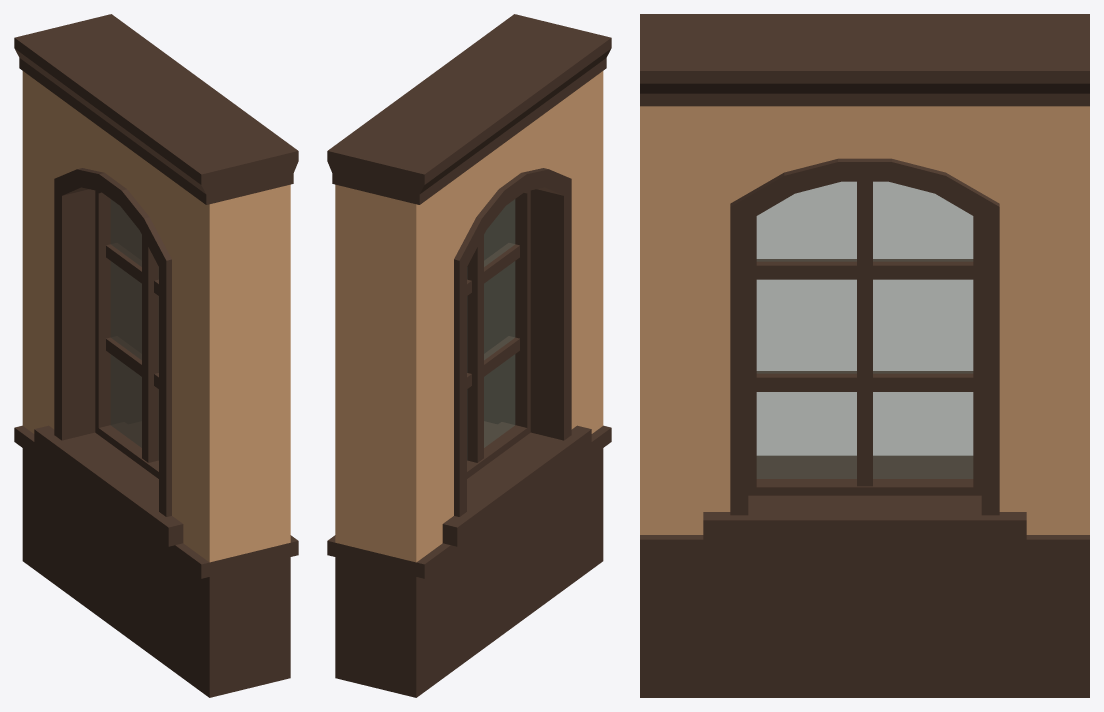
File: S_WallWindow2.fbx
3 renders of one model, left to right at view 1: azimuth 30°, elevation 25°; view 2: azimuth 150°, elevation 25°; view 3: azimuth 270°, elevation 25°, orthographic. The views are drawn at different scales.
Parts seen in each view (by area): view 1: S_WallWindow2; view 2: S_WallWindow2; view 3: S_WallWindow2.
Part boxes in pixels (x1,y1,x2,y2): S_WallWindow2: (14,14,298,697); S_WallWindow2: (327,14,611,697); S_WallWindow2: (640,14,1089,697).
Size of the model in its own units: 67.97 by 310 by 200.
